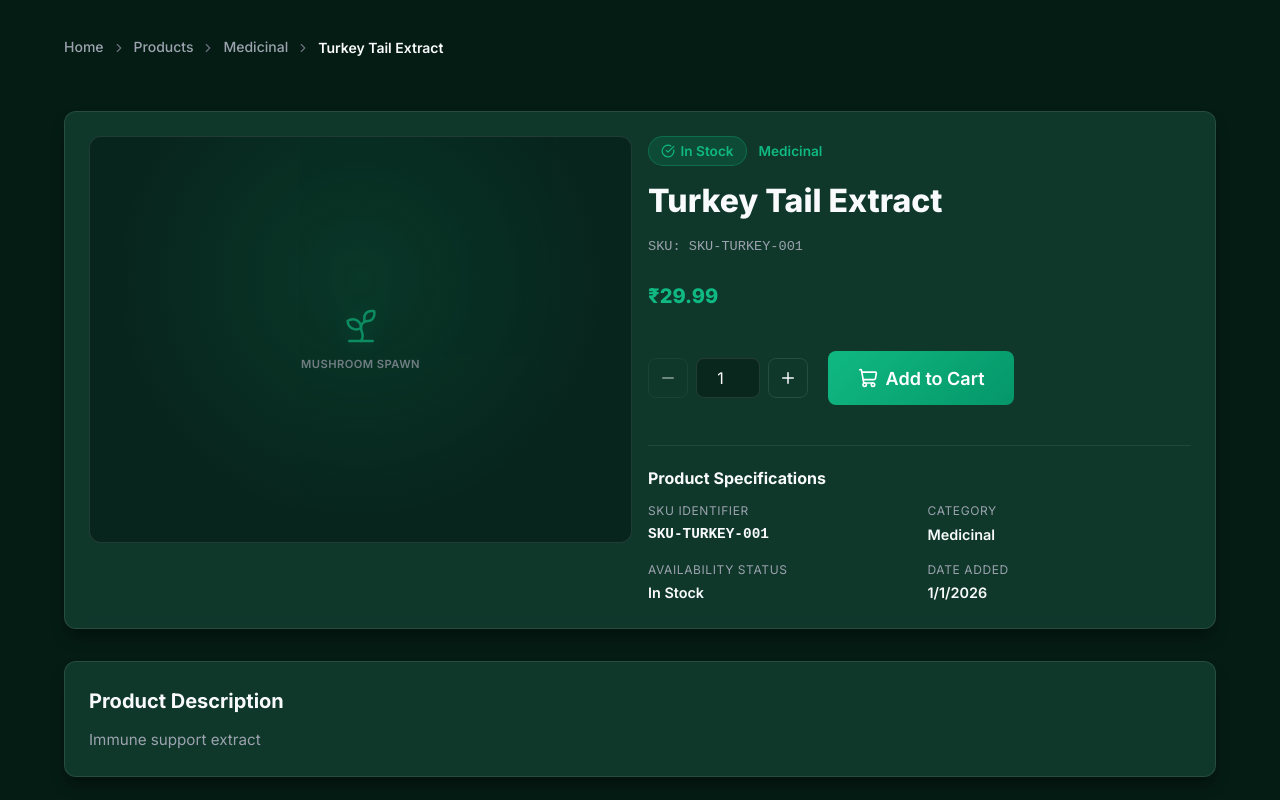
it: ProductDetailPage (FD-10) › does not claim success when the cart API rejects
Expected: the element with test id "product-detail-card" is shown, [64,111,1216,629]
Click the button "Add to Cart": (921, 378) [828,351,1014,405]
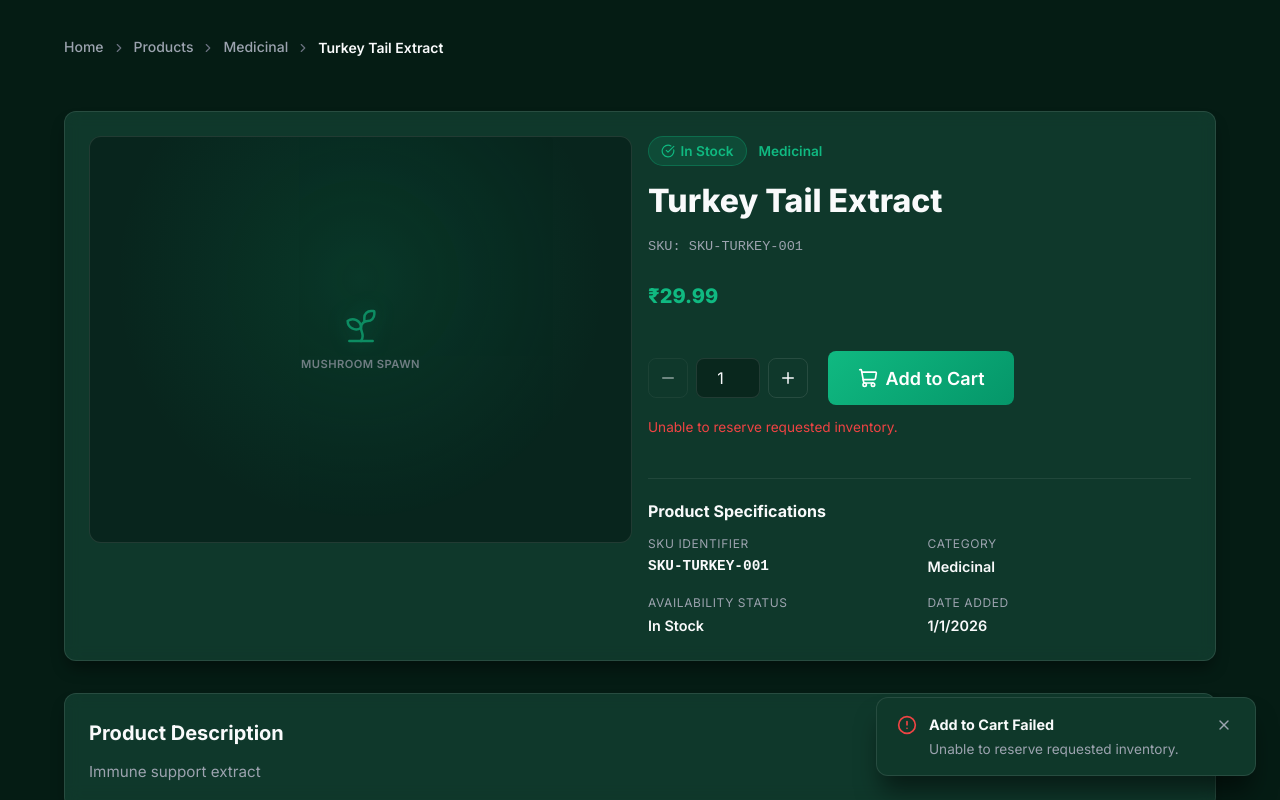
Expected: the message with test id "add-to-cart-error" reads "Unable to reserve requested inventory.", [648,419,898,435]
